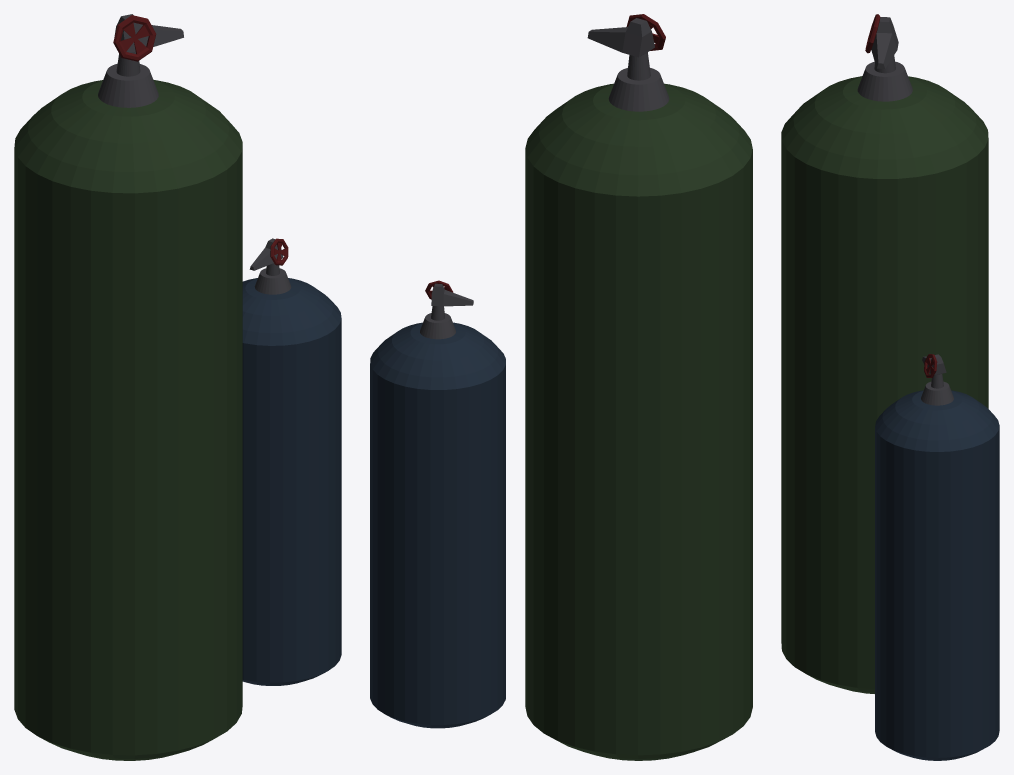
File: Oxygen.fbx
3 views of the same model, side by side, from view 1: azimuth 30°, elevation 25°; view 2: azimuth 150°, elevation 25°; view 3: azimuth 270°, elevation 25° (orthographic). The views are drawn at different scales.
Visible parts, largest first — view 1: Torus, Torus.001; view 2: Torus, Torus.001; view 3: Torus, Torus.001.
Part boxes in pixels (x1=…): Torus: x1=14, y1=14, x2=242, y2=760; Torus.001: x1=242, y1=238, x2=341, y2=685; Torus: x1=525, y1=14, x2=752, y2=760; Torus.001: x1=370, y1=280, x2=505, y2=728; Torus: x1=781, y1=14, x2=988, y2=693; Torus.001: x1=875, y1=354, x2=999, y2=760.
Size of the model in its own units: 335 by 694 by 210.
